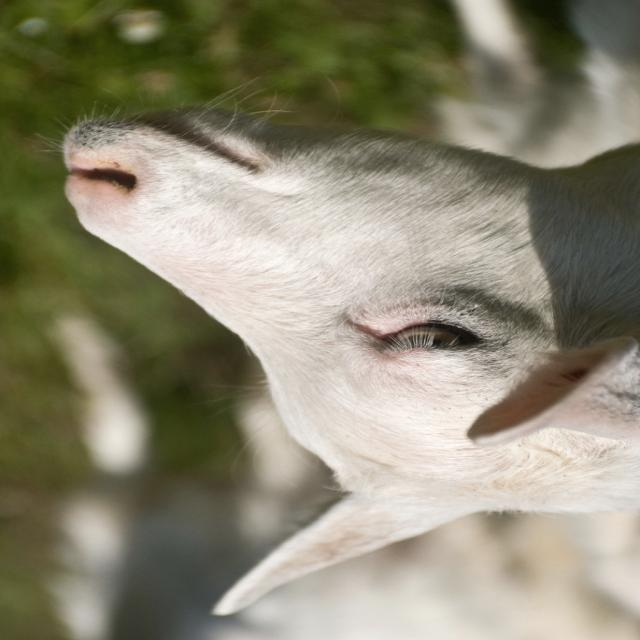Goat: (36, 4, 638, 619)
